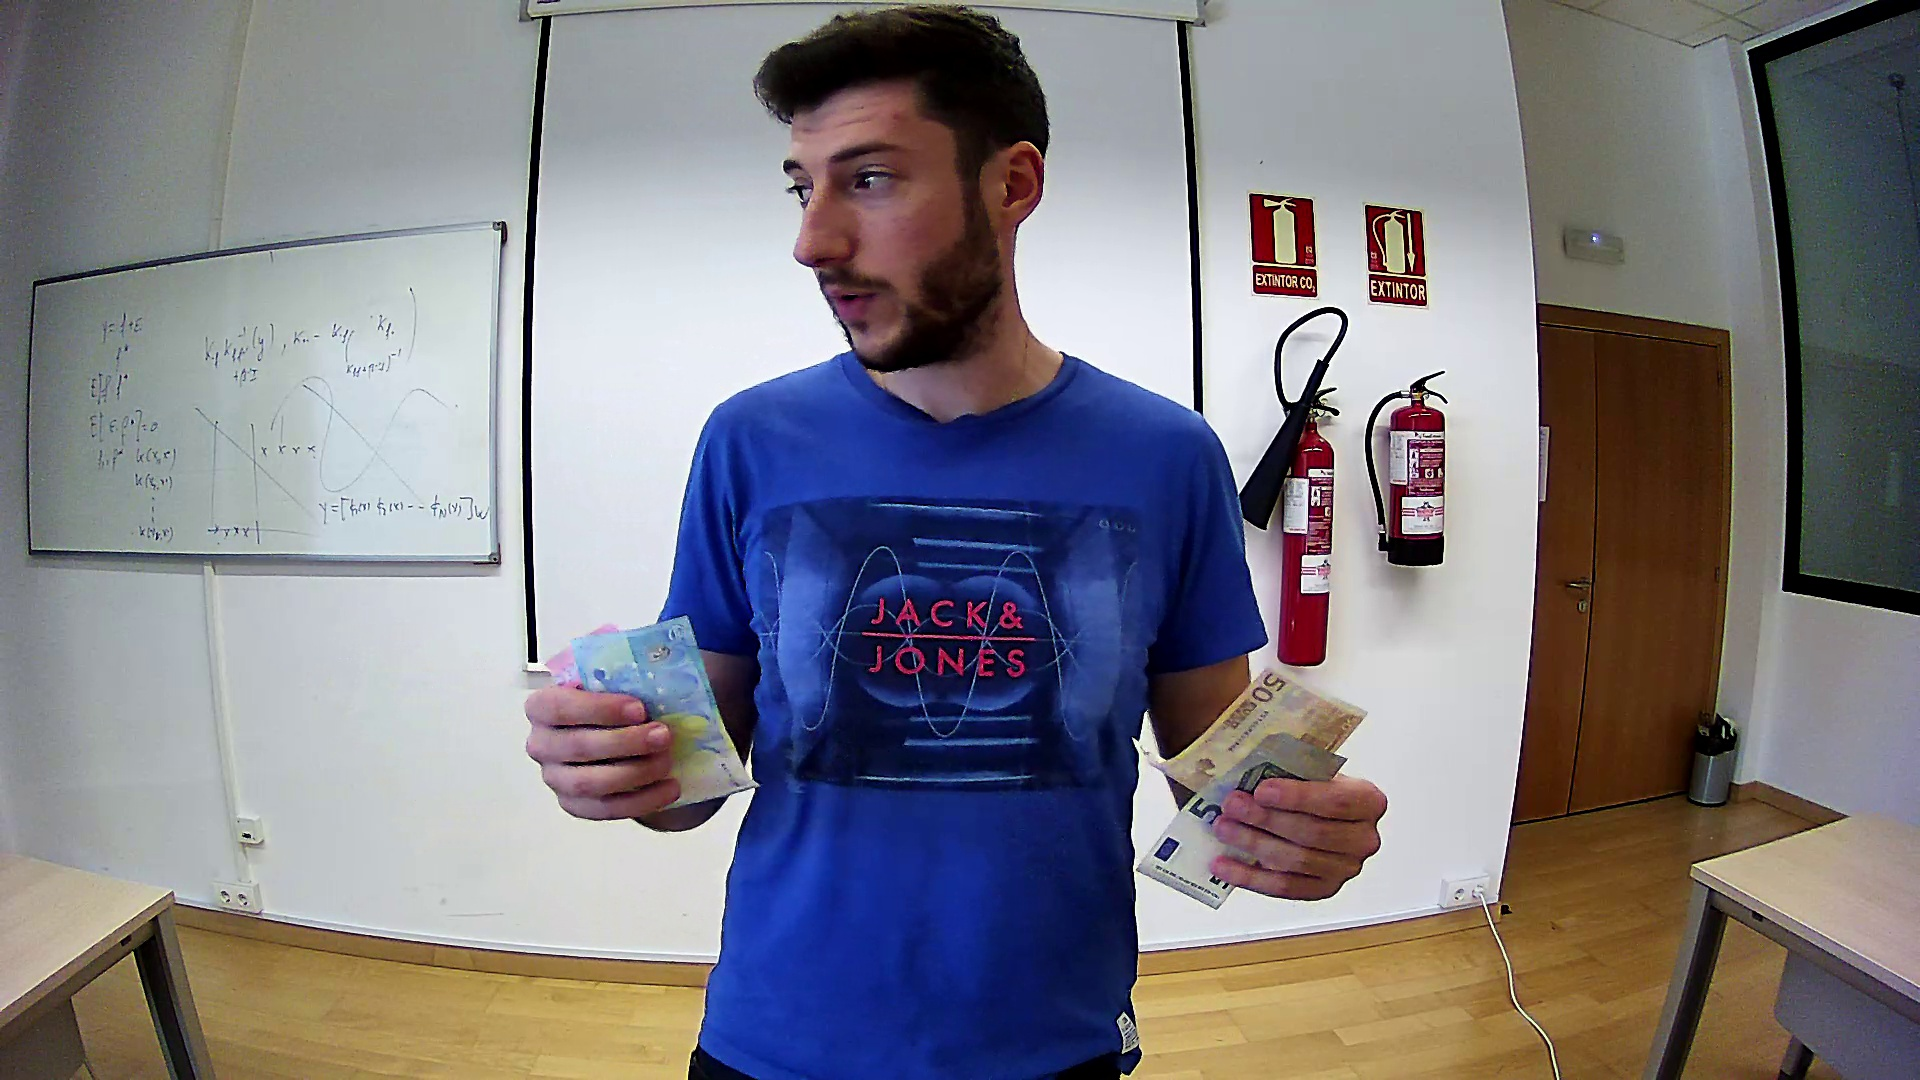billete: (545, 615, 762, 814), (1135, 731, 1349, 910), (1131, 666, 1369, 794)
